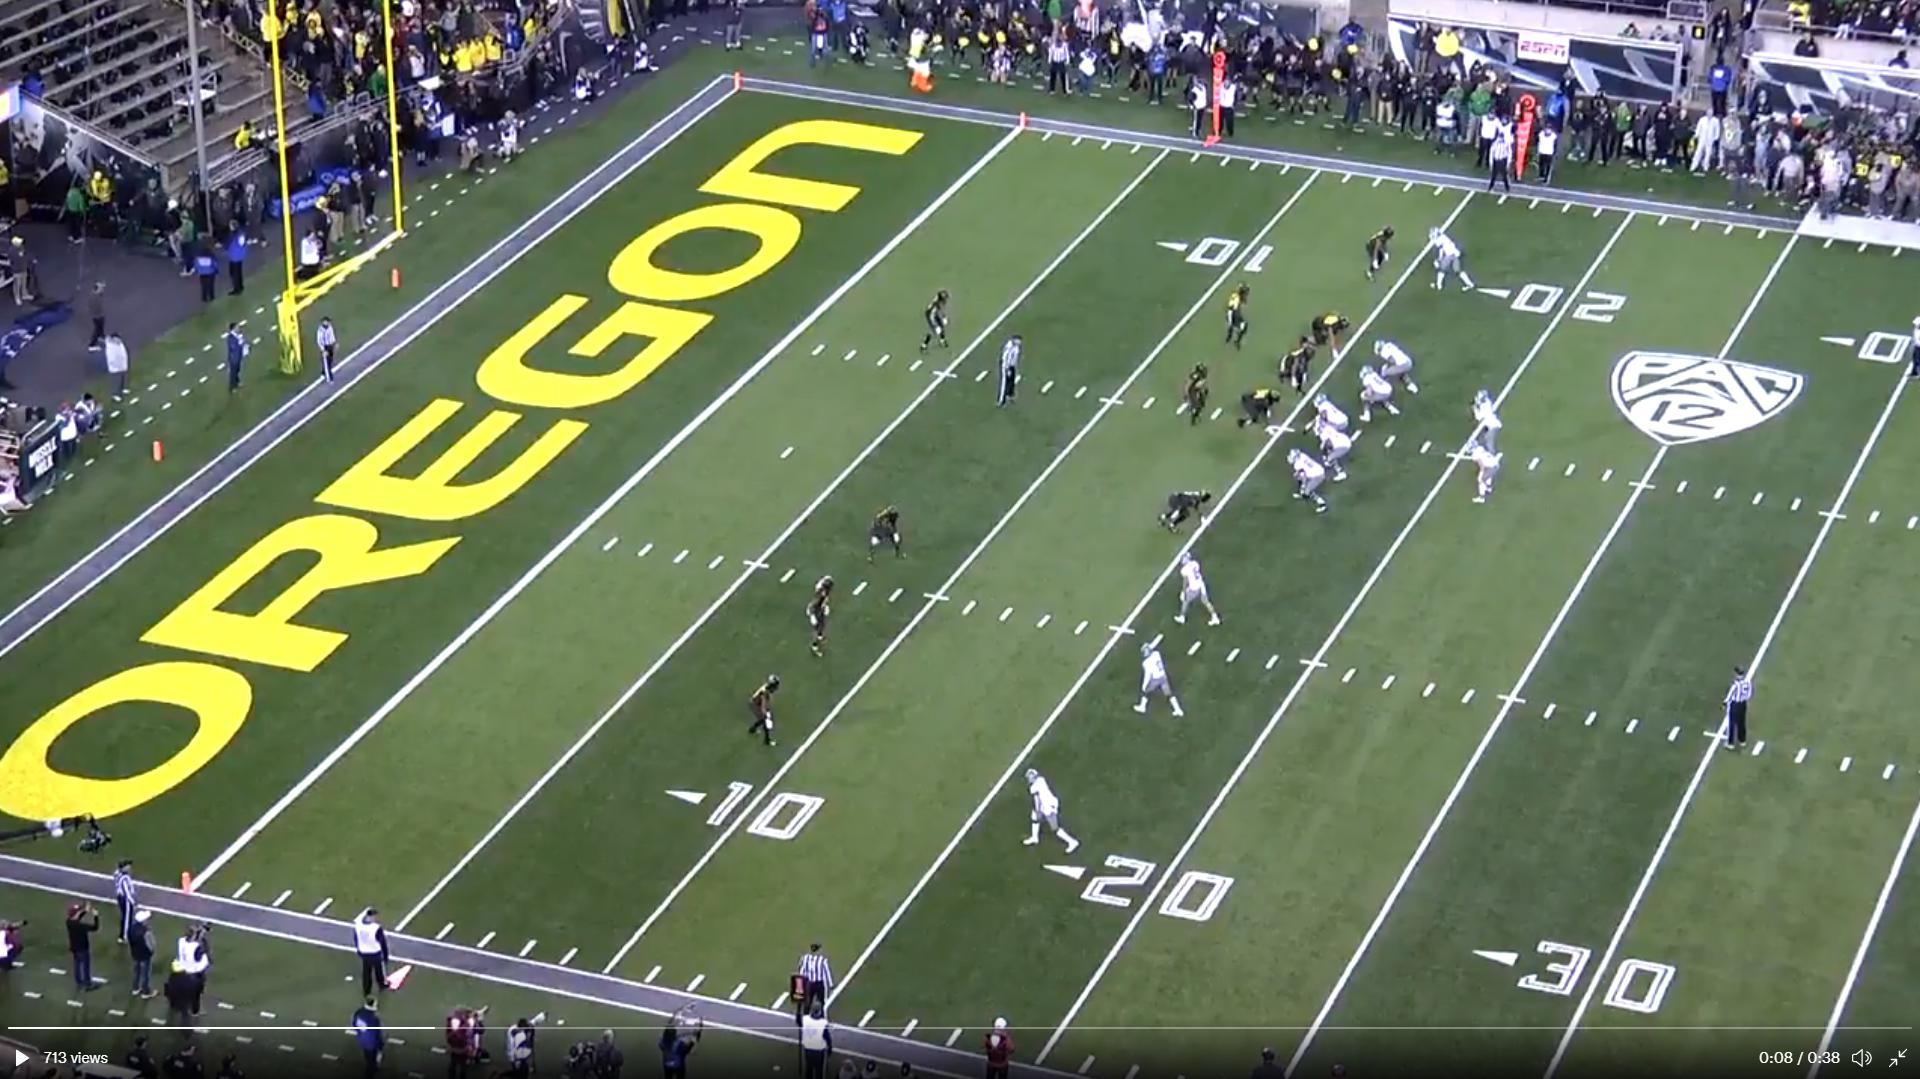defense: (744, 673, 787, 757), (806, 571, 844, 662), (1296, 307, 1353, 360), (1156, 485, 1215, 534), (865, 503, 906, 567), (1225, 276, 1259, 352), (1178, 363, 1213, 431), (1238, 384, 1284, 435), (924, 284, 956, 355), (1364, 223, 1398, 284), (1279, 336, 1315, 390)
oline: (1283, 446, 1332, 517), (1371, 334, 1420, 394), (1315, 422, 1361, 485), (1357, 364, 1404, 425), (1316, 392, 1361, 439)
qb: (1469, 385, 1507, 464)
ref: (1712, 661, 1762, 756), (794, 937, 835, 1014), (313, 314, 347, 394), (994, 331, 1025, 416), (1481, 124, 1514, 200)
skill: (1019, 761, 1081, 856), (1131, 634, 1191, 723), (1170, 547, 1226, 634), (1429, 224, 1480, 292), (1466, 434, 1501, 509)
